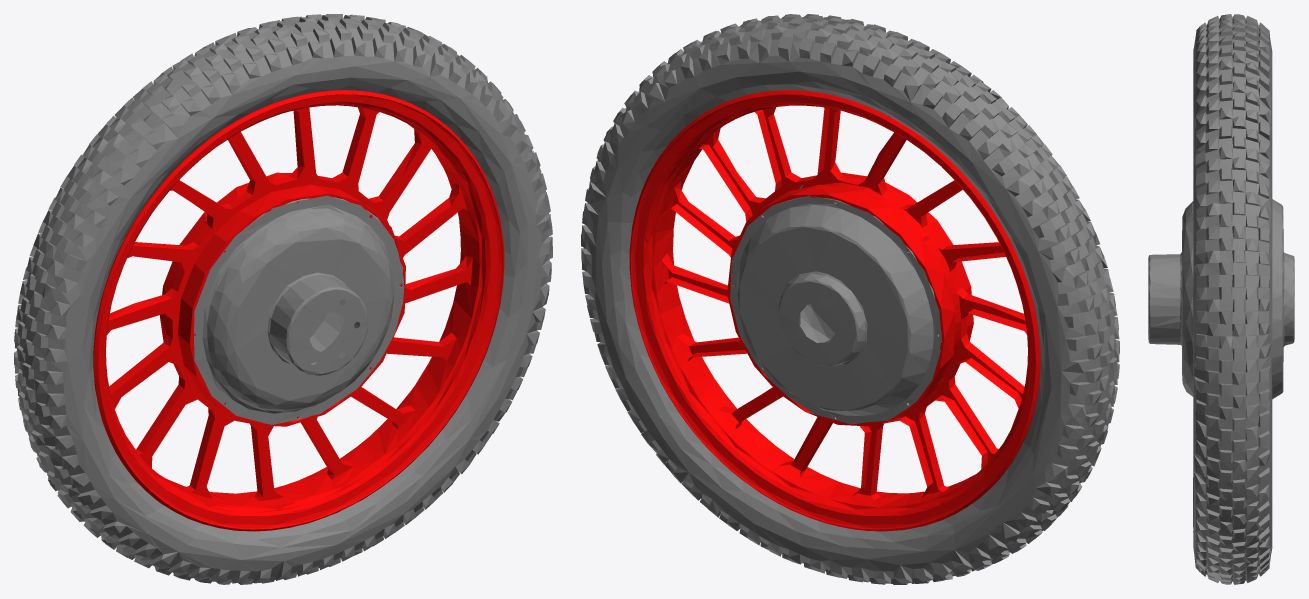
Rendered from wheel_front_right.dae.
3 renders of one model, left to right at view 1: azimuth 30°, elevation 25°; view 2: azimuth 150°, elevation 25°; view 3: azimuth 270°, elevation 25°, orthographic. The views are drawn at different scales.
Parts seen in each view (by area): view 1: wheel_front_right; view 2: wheel_front_right; view 3: wheel_front_right.
Part boxes in pixels (x1,y1,x2,y2): wheel_front_right: [14, 14, 552, 584]; wheel_front_right: [581, 14, 1119, 584]; wheel_front_right: [1148, 14, 1294, 584].
Bounding box in the file's own units: 0.5073 × 0.13 × 0.5073.
